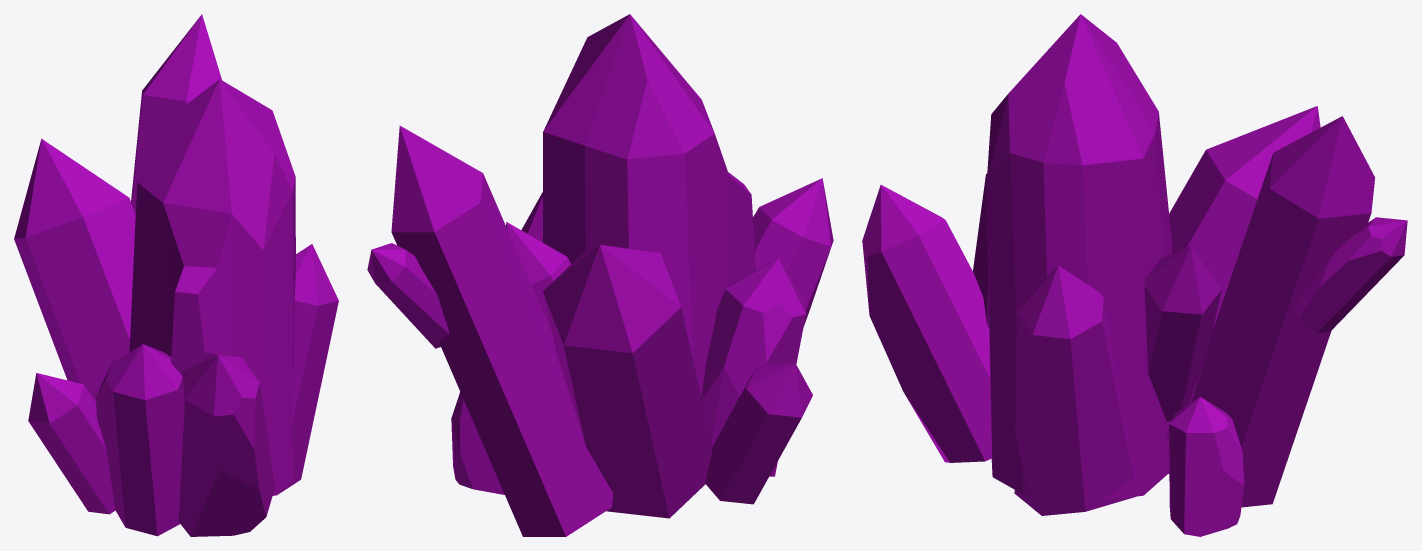
File: crystal cluster_03.fbx
The picture shows the model from 3 angles, left to right: view 1: azimuth 30°, elevation 25°; view 2: azimuth 150°, elevation 25°; view 3: azimuth 270°, elevation 25°; orthographic projection. The views are drawn at different scales.
Visible parts, largest first — view 1: pCylinder21; view 2: pCylinder21; view 3: pCylinder21.
Boxes of the visible parts, x1,y1,x2,y2 form: pCylinder21: [14, 14, 338, 536]; pCylinder21: [367, 14, 833, 536]; pCylinder21: [862, 14, 1407, 536].
Bounding box in the file's own units: 0.707 × 0.9904 × 1.02.
